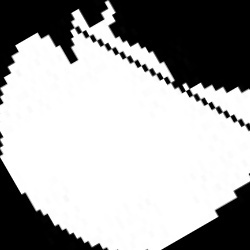spot: (2, 3, 248, 248)
